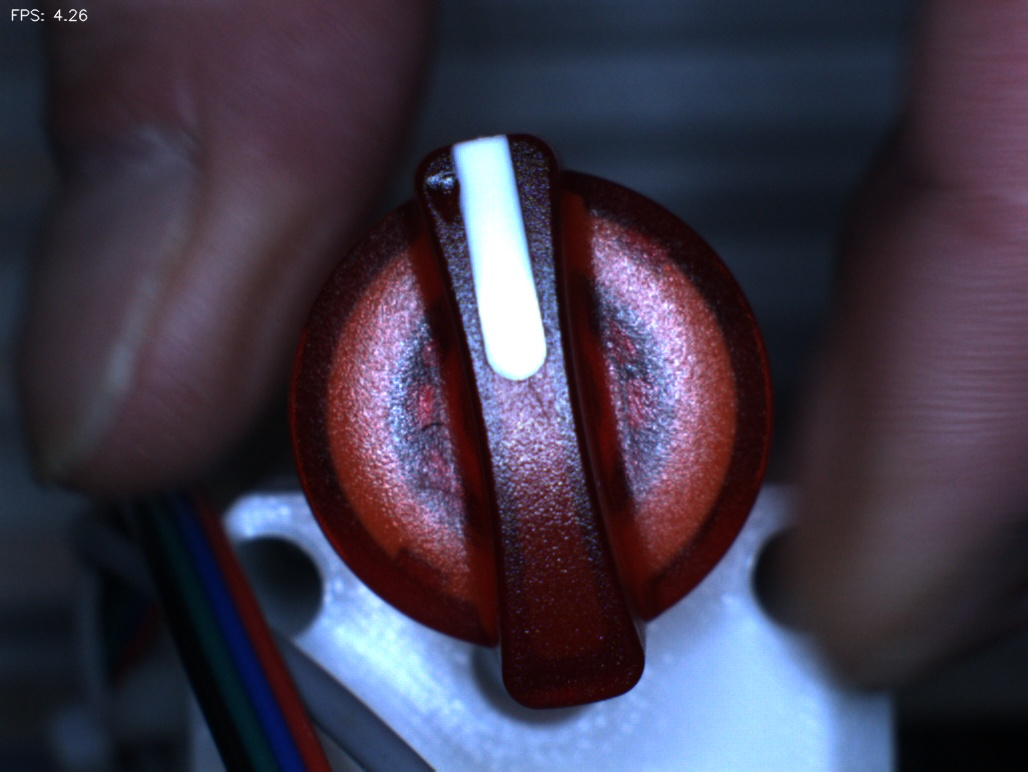Choc: (410, 154, 493, 237)
